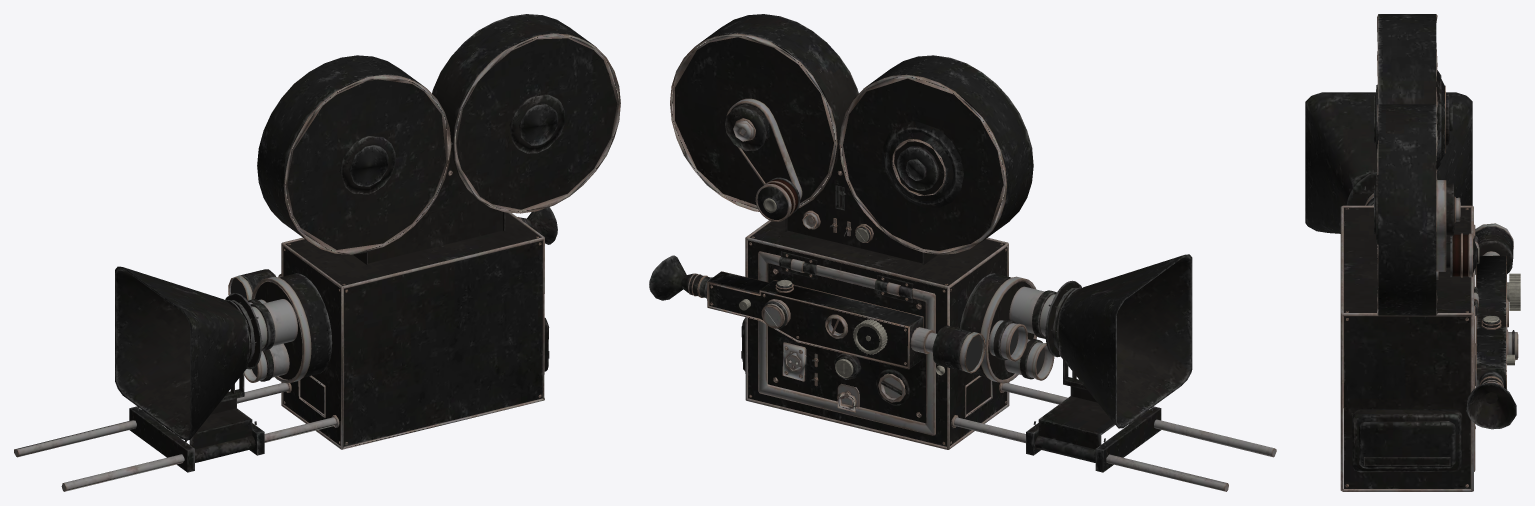
The model's file is film-camera.glb.
The picture shows the model from 3 angles, left to right: view 1: azimuth 30°, elevation 25°; view 2: azimuth 150°, elevation 25°; view 3: azimuth 270°, elevation 25°; orthographic projection. The views are drawn at different scales.
Visible parts, largest first — view 1: Camera_BlackPlastic_0, Camera_Metal_0 (×2), Lenses_BlackPlastic_0, Lenses_Metal_0, Eyepiece_BlackPlastic_0; view 2: Camera_BlackPlastic_0, Camera_Metal_0 (×2), Eyepiece_BlackPlastic_0, Lenses_Metal_0, Eyepiece_Metal_0, Lenses_BlackPlastic_0, Handle_BlackPlastic_0, Handle_Metal_0, Eyepiece_Misc_0; view 3: Camera_BlackPlastic_0, Eyepiece_BlackPlastic_0, Camera_Metal_0 (×2), Handle_Metal_0, Eyepiece_Metal_0, Eyepiece_Misc_0, Handle_Misc_0, Handle_BlackPlastic_0.
Boxes of the visible parts, box(x1,y1,x2,y2) form: Camera_BlackPlastic_0: box(115, 14, 617, 472); Camera_Metal_0 (×2): box(14, 25, 620, 491); Lenses_BlackPlastic_0: box(248, 273, 332, 381); Lenses_Metal_0: box(244, 276, 311, 383); Eyepiece_BlackPlastic_0: box(238, 207, 557, 292); Camera_BlackPlastic_0: box(675, 14, 1192, 472); Camera_Metal_0 (×2): box(670, 22, 1276, 491); Eyepiece_BlackPlastic_0: box(649, 255, 972, 371); Lenses_Metal_0: box(980, 276, 1055, 383); Eyepiece_Metal_0: box(688, 271, 985, 373); Lenses_BlackPlastic_0: box(959, 273, 1056, 379); Handle_BlackPlastic_0: box(731, 103, 800, 219); Handle_Metal_0: box(726, 98, 802, 221); Eyepiece_Misc_0: box(739, 280, 982, 371); Camera_BlackPlastic_0: box(1305, 14, 1478, 488); Eyepiece_BlackPlastic_0: box(1466, 226, 1516, 429); Camera_Metal_0 (×2): box(1340, 14, 1478, 491); Handle_Metal_0: box(1436, 180, 1473, 277); Eyepiece_Metal_0: box(1475, 223, 1518, 389); Eyepiece_Misc_0: box(1482, 228, 1520, 365); Handle_Misc_0: box(1452, 234, 1479, 276); Handle_BlackPlastic_0: box(1446, 235, 1478, 277).
Bounding box in the file's own units: 121 × 71.16 × 36.24.
Materials: 3 (3 with a texture image).
